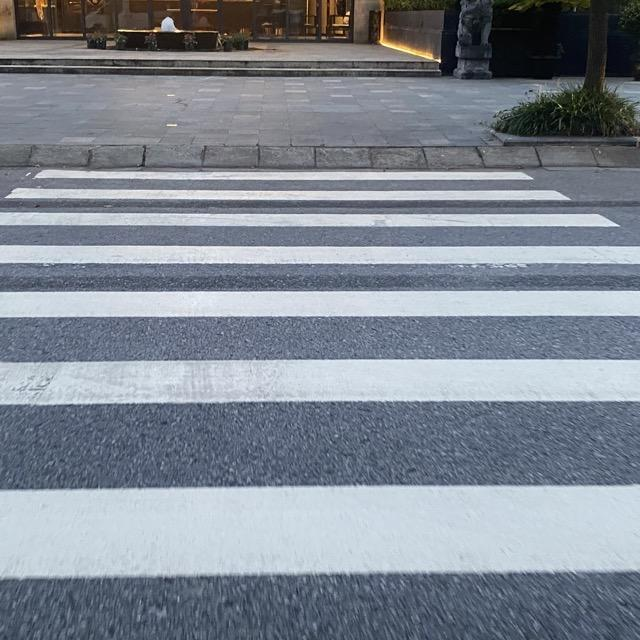curb: (0, 144, 639, 167), (491, 130, 639, 147)
